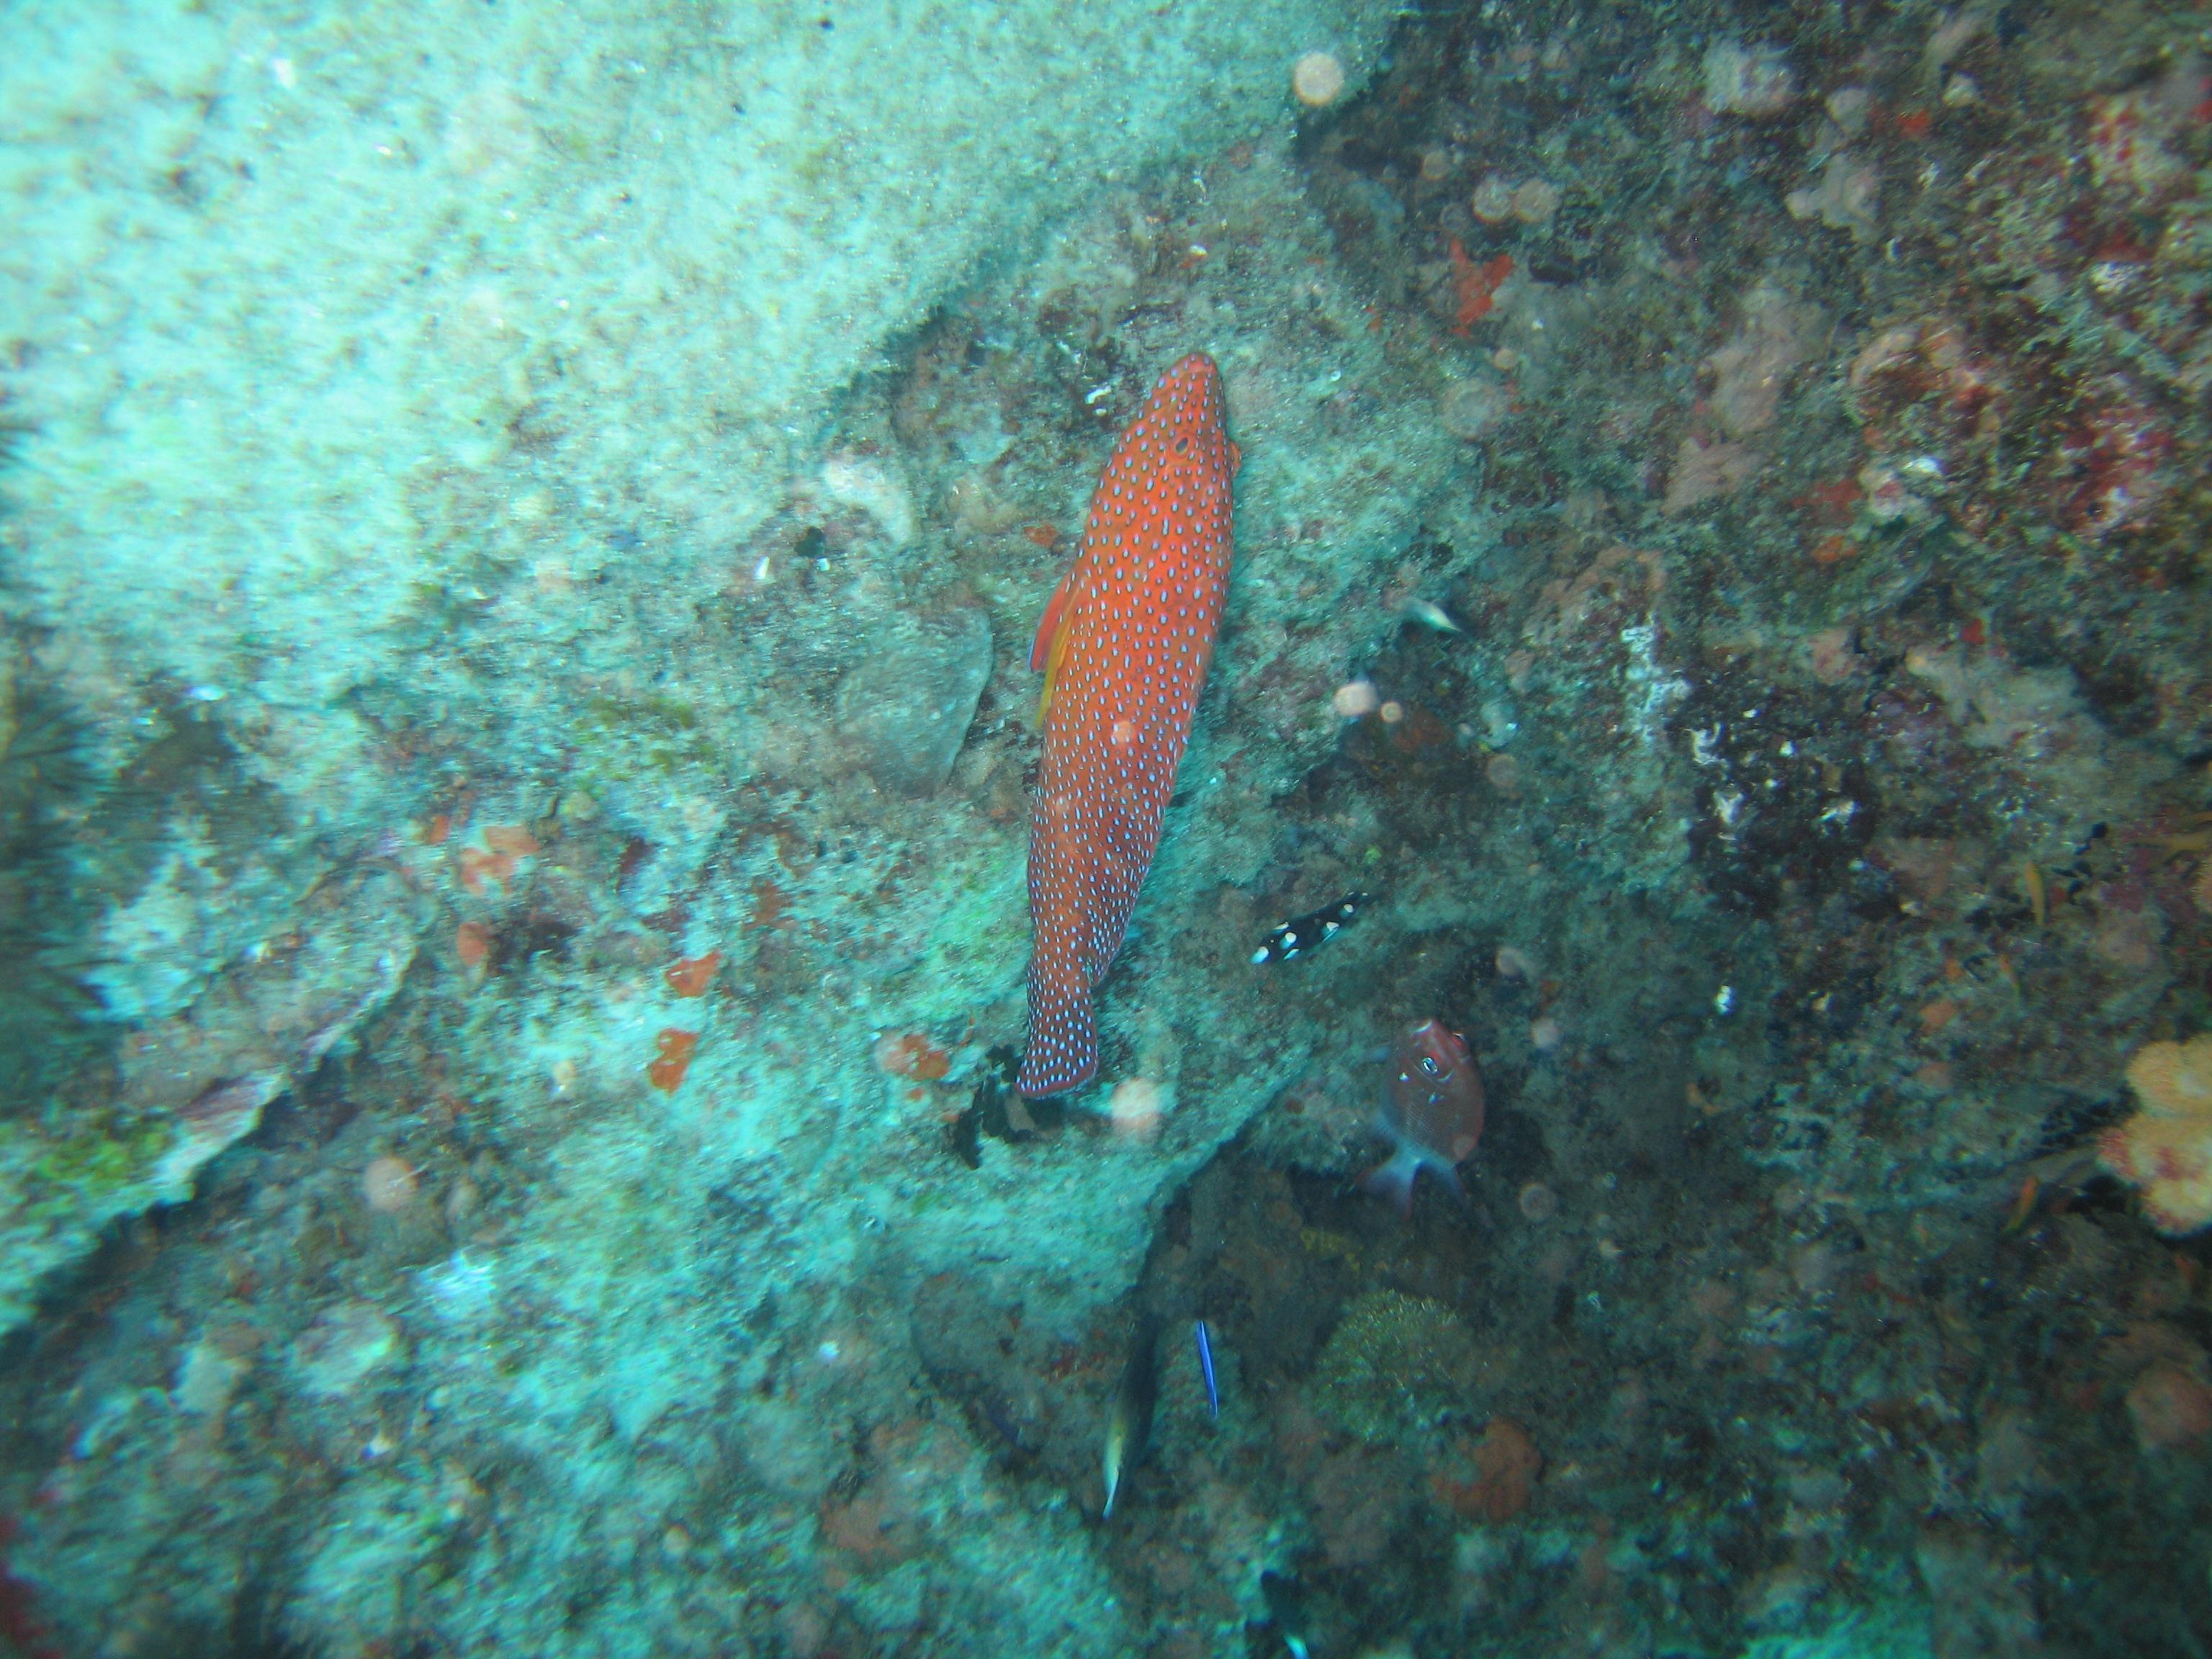Fish: (385, 673, 1608, 997)
